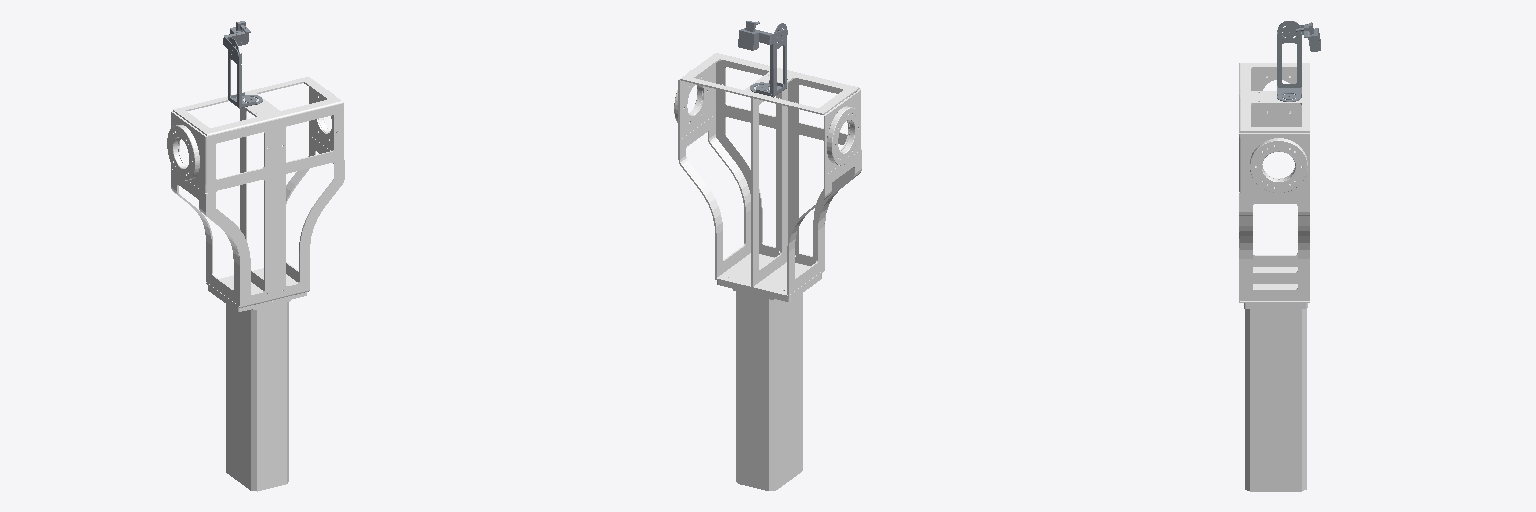
The robot description file, URDF, robot "机器人1":
<?xml version="1.0" encoding="utf-8"?>
<!-- This URDF was automatically created by SolidWorks to URDF Exporter! Originally created by Stephen Brawner (brawner@gmail.com) 
     Commit Version: 1.6.0-4-g7f85cfe  Build Version: 1.6.7995.38578
     For more information, please see http://wiki.ros.org/sw_urdf_exporter -->
<robot
  name="机器人1">
  <link
    name="base_link">
    <inertial>
      <origin
        xyz="0.0120891397041975 0.0519579988087084 -0.791790772110209"
        rpy="0 0 0" />
      <mass
        value="25.382702892409" />
      <inertia
        ixx="0.960352012560532"
        ixy="0.0969280234116133"
        ixz="0.00492267726941014"
        iyy="0.596477149137499"
        iyz="0.0244085468525064"
        izz="1.29502857028513" />
    </inertial>
    <visual>
      <origin
        xyz="0 0 0"
        rpy="0 0 0" />
      <geometry>
        <mesh
          filename="package://robot/meshes/base_link.STL" />
      </geometry>
      <material
        name="">
        <color
          rgba="0.529411764705882 0.549019607843137 0.549019607843137 1" />
      </material>
    </visual>
    <collision>
      <origin
        xyz="0 0 0"
        rpy="0 0 0" />
      <geometry>
        <mesh
          filename="package://robot/meshes/base_link.STL" />
      </geometry>
    </collision>
  </link>
  <link
    name="Empty_Link1">
    <inertial>
      <origin
        xyz="3.16730114937464E-07 -0.0112689010570366 0.0406214215726837"
        rpy="0 0 0" />
      <mass
        value="20.74976494563" />
      <inertia
        ixx="0.499652254881431"
        ixy="2.45489957333663E-07"
        ixz="-5.75697153375584E-07"
        iyy="0.565268458821286"
        iyz="-0.00348927566732553"
        izz="0.17544874708655" />
    </inertial>
    <visual>
      <origin
        xyz="0 0 0"
        rpy="0 0 0" />
      <geometry>
        <mesh
          filename="package://robot/meshes/Empty_Link1.STL" />
      </geometry>
      <material
        name="">
        <color
          rgba="1 1 1 1" />
      </material>
    </visual>
    <collision>
      <origin
        xyz="0 0 0"
        rpy="0 0 0" />
      <geometry>
        <mesh
          filename="package://robot/meshes/Empty_Link1.STL" />
      </geometry>
    </collision>
  </link>
  <joint
    name="body"
    type="prismatic">
    <origin
      xyz="0 0 0"
      rpy="0 0 0" />
    <parent
      link="base_link" />
    <child
      link="Empty_Link1" />
    <axis
      xyz="0 0 1" />
    <limit
      lower="0"
      upper="0"
      effort="0"
      velocity="0" />
  </joint>
  <link
    name="Empty_Link2">
    <inertial>
      <origin
        xyz="-0.0357908590042695 0.000869861008787776 0.0585925818323645"
        rpy="0 0 0" />
      <mass
        value="0.204459123113245" />
      <inertia
        ixx="0.000846865102319314"
        ixy="-1.38861727585455E-07"
        ixz="0.00014516432383329"
        iyy="0.000836042729880967"
        iyz="-3.57360191201456E-06"
        izz="0.00017800728279826" />
    </inertial>
    <visual>
      <origin
        xyz="0 0 0"
        rpy="0 0 0" />
      <geometry>
        <mesh
          filename="package://robot/meshes/Empty_Link2.STL" />
      </geometry>
      <material
        name="">
        <color
          rgba="0.615686274509804 0.643137254901961 0.674509803921569 1" />
      </material>
    </visual>
    <collision>
      <origin
        xyz="0 0 0"
        rpy="0 0 0" />
      <geometry>
        <mesh
          filename="package://robot/meshes/Empty_Link2.STL" />
      </geometry>
    </collision>
  </link>
  <joint
    name="shoulder"
    type="revolute">
    <origin
      xyz="0 0.0325 0.517"
      rpy="0 0 0" />
    <parent
      link="Empty_Link1" />
    <child
      link="Empty_Link2" />
    <axis
      xyz="0 0 -1" />
    <limit
      lower="0"
      upper="0"
      effort="0"
      velocity="0" />
  </joint>
  <link
    name="Empty_Link3">
    <inertial>
      <origin
        xyz="-0.00475503372695224 0.0432733347099224 0.0326370097896899"
        rpy="0 0 0" />
      <mass
        value="0.126830010915386" />
      <inertia
        ixx="0.00010115638584116"
        ixy="-1.78799119170505E-07"
        ixz="-1.00696600100538E-07"
        iyy="7.69438765929355E-05"
        iyz="-2.84839112522328E-05"
        izz="6.49444964089446E-05" />
    </inertial>
    <visual>
      <origin
        xyz="0 0 0"
        rpy="0 0 0" />
      <geometry>
        <mesh
          filename="package://robot/meshes/Empty_Link3.STL" />
      </geometry>
      <material
        name="">
        <color
          rgba="0.615686274509804 0.643137254901961 0.674509803921569 1" />
      </material>
    </visual>
    <collision>
      <origin
        xyz="0 0 0"
        rpy="0 0 0" />
      <geometry>
        <mesh
          filename="package://robot/meshes/Empty_Link3.STL" />
      </geometry>
    </collision>
  </link>
  <joint
    name="head"
    type="revolute">
    <origin
      xyz="-0.048987 0.0011123 0.148"
      rpy="0.022702 1.5708 0" />
    <parent
      link="Empty_Link2" />
    <child
      link="Empty_Link3" />
    <axis
      xyz="0 0 -1" />
    <limit
      lower="0"
      upper="0"
      effort="0"
      velocity="0" />
  </joint>
  <link
    name="Empty_Link4">
    <inertial>
      <origin
        xyz="0.304053631200948 0.125279814620861 -0.217166489082341"
        rpy="0 0 0" />
      <mass
        value="116.924242623474" />
      <inertia
        ixx="22.6996759537867"
        ixy="3.90945809904764"
        ixz="-2.58117429045539"
        iyy="52.2575876422123"
        iyz="0.24697748095317"
        izz="40.195058113581" />
    </inertial>
    <visual>
      <origin
        xyz="0 0 0"
        rpy="0 0 0" />
      <geometry>
        <mesh
          filename="package://robot/meshes/Empty_Link4.STL" />
      </geometry>
      <material
        name="">
        <color
          rgba="1 1 1 1" />
      </material>
    </visual>
    <collision>
      <origin
        xyz="0 0 0"
        rpy="0 0 0" />
      <geometry>
        <mesh
          filename="package://robot/meshes/Empty_Link4.STL" />
      </geometry>
    </collision>
  </link>
  <joint
    name="left_arm"
    type="fixed">
    <origin
      xyz="0.215 0.0075416 0.43"
      rpy="0 1.5708 0" />
    <parent
      link="Empty_Link1" />
    <child
      link="Empty_Link4" />
    <axis
      xyz="0 0 0" />
  </joint>
  <link
    name="Empty_Link5">
    <inertial>
      <origin
        xyz="-0.304053631200947 0.125279814620861 -0.212833510917659"
        rpy="0 0 0" />
      <mass
        value="116.924242623475" />
      <inertia
        ixx="22.6996759537867"
        ixy="-3.90945809904764"
        ixz="-2.5811742904554"
        iyy="52.2575876422123"
        iyz="-0.246977480953169"
        izz="40.195058113581" />
    </inertial>
    <visual>
      <origin
        xyz="0 0 0"
        rpy="0 0 0" />
      <geometry>
        <mesh
          filename="package://robot/meshes/Empty_Link5.STL" />
      </geometry>
      <material
        name="">
        <color
          rgba="1 1 1 1" />
      </material>
    </visual>
    <collision>
      <origin
        xyz="0 0 0"
        rpy="0 0 0" />
      <geometry>
        <mesh
          filename="package://robot/meshes/Empty_Link5.STL" />
      </geometry>
    </collision>
  </link>
  <joint
    name="right_arm"
    type="fixed">
    <origin
      xyz="-0.215 0.0075416 0.43"
      rpy="3.1416 -1.5708 0" />
    <parent
      link="Empty_Link1" />
    <child
      link="Empty_Link5" />
    <axis
      xyz="0 0 0" />
  </joint>
</robot>

--- Render facts (derived) ---
Views: 3 orthographic renders of the robot side by side, from view 1: azimuth 30°, elevation 25°; view 2: azimuth 150°, elevation 25°; view 3: azimuth 270°, elevation 25°.
Model 机器人1 with 6 links and 5 joints (2 revolute, 1 prismatic, 2 fixed), rooted at base_link, posed every joint at zero.
Links seen in each view (by area): view 1: Empty_Link1, Empty_Link2, Empty_Link3; view 2: Empty_Link1, Empty_Link2, Empty_Link3; view 3: Empty_Link1, Empty_Link2.
Boxes of the visible links, <box> form: Empty_Link1: <box>167,77,344,491</box>; Empty_Link2: <box>228,38,262,108</box>; Empty_Link3: <box>223,21,250,58</box>; Empty_Link1: <box>674,53,861,490</box>; Empty_Link2: <box>750,23,786,97</box>; Empty_Link3: <box>738,21,787,50</box>; Empty_Link1: <box>1239,63,1309,491</box>; Empty_Link2: <box>1277,21,1301,101</box>.
Bounding box of the posed robot: 0.43 × 0.1993 × 1.22 m (x, y, z).
Meshes: 6 distinct files referenced, 3 mesh visuals loaded (3 binary STL); not drawn: 1 (reference not matched to a file when rendering), 2 (file found but could not be loaded).
